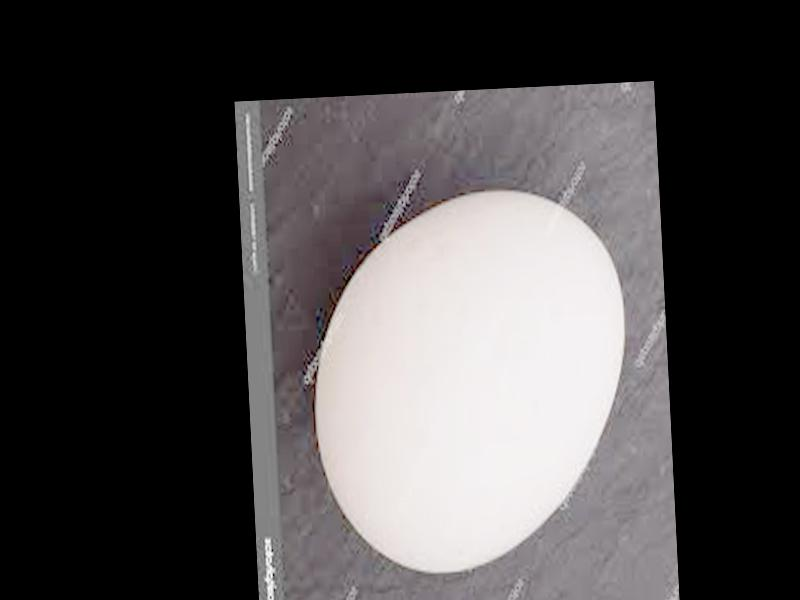Eggs: (304, 185, 633, 577)
